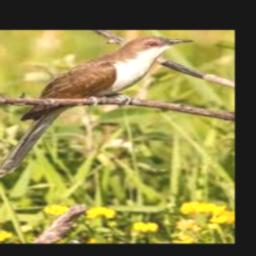Cuckoo: (0, 37, 194, 177)
